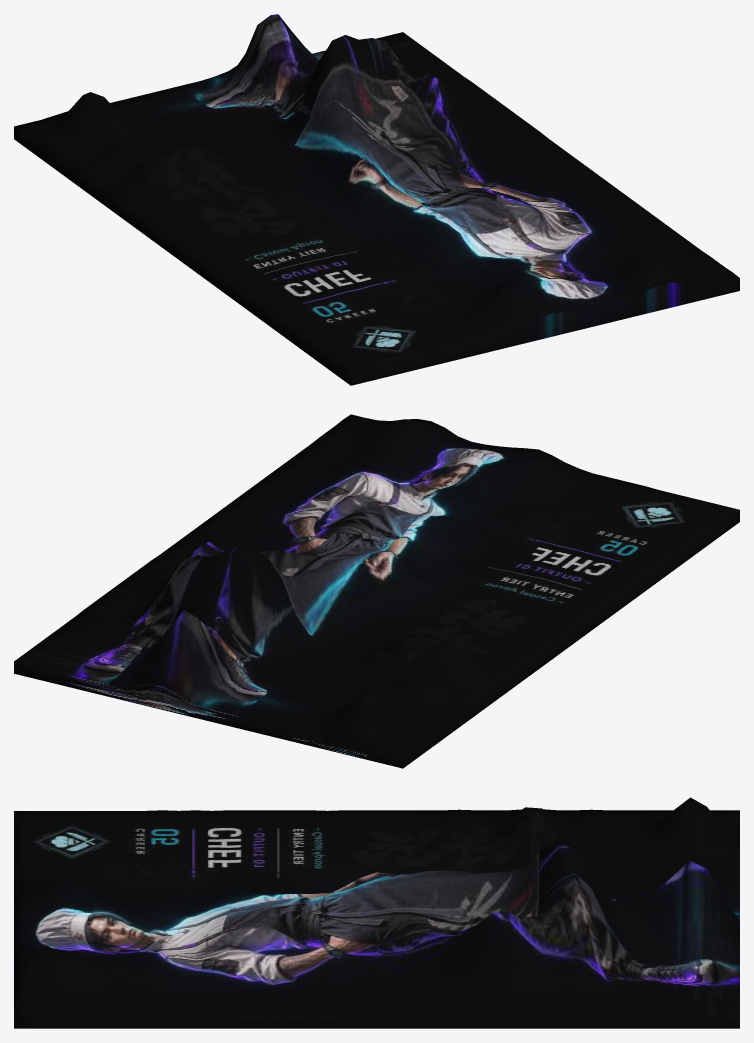
The model's file is CAREER_05_Outfit_01_Entry.glb.
3 renders of one model, top to bottom at view 1: azimuth 30°, elevation 25°; view 2: azimuth 150°, elevation 25°; view 3: azimuth 270°, elevation 25°, orthographic. The views are drawn at different scales.
Visible parts, largest first — view 1: CAREER_05_Outfit_01_Entry; view 2: CAREER_05_Outfit_01_Entry; view 3: CAREER_05_Outfit_01_Entry.
Part boxes in pixels (x1,y1,x2,y2): CAREER_05_Outfit_01_Entry: (14,14,739,385); CAREER_05_Outfit_01_Entry: (14,414,739,768); CAREER_05_Outfit_01_Entry: (14,797,739,1028).
Bounding box in the file's own units: 2 × 0.51 × 3.
Materials: 1 (1 with a texture image).
